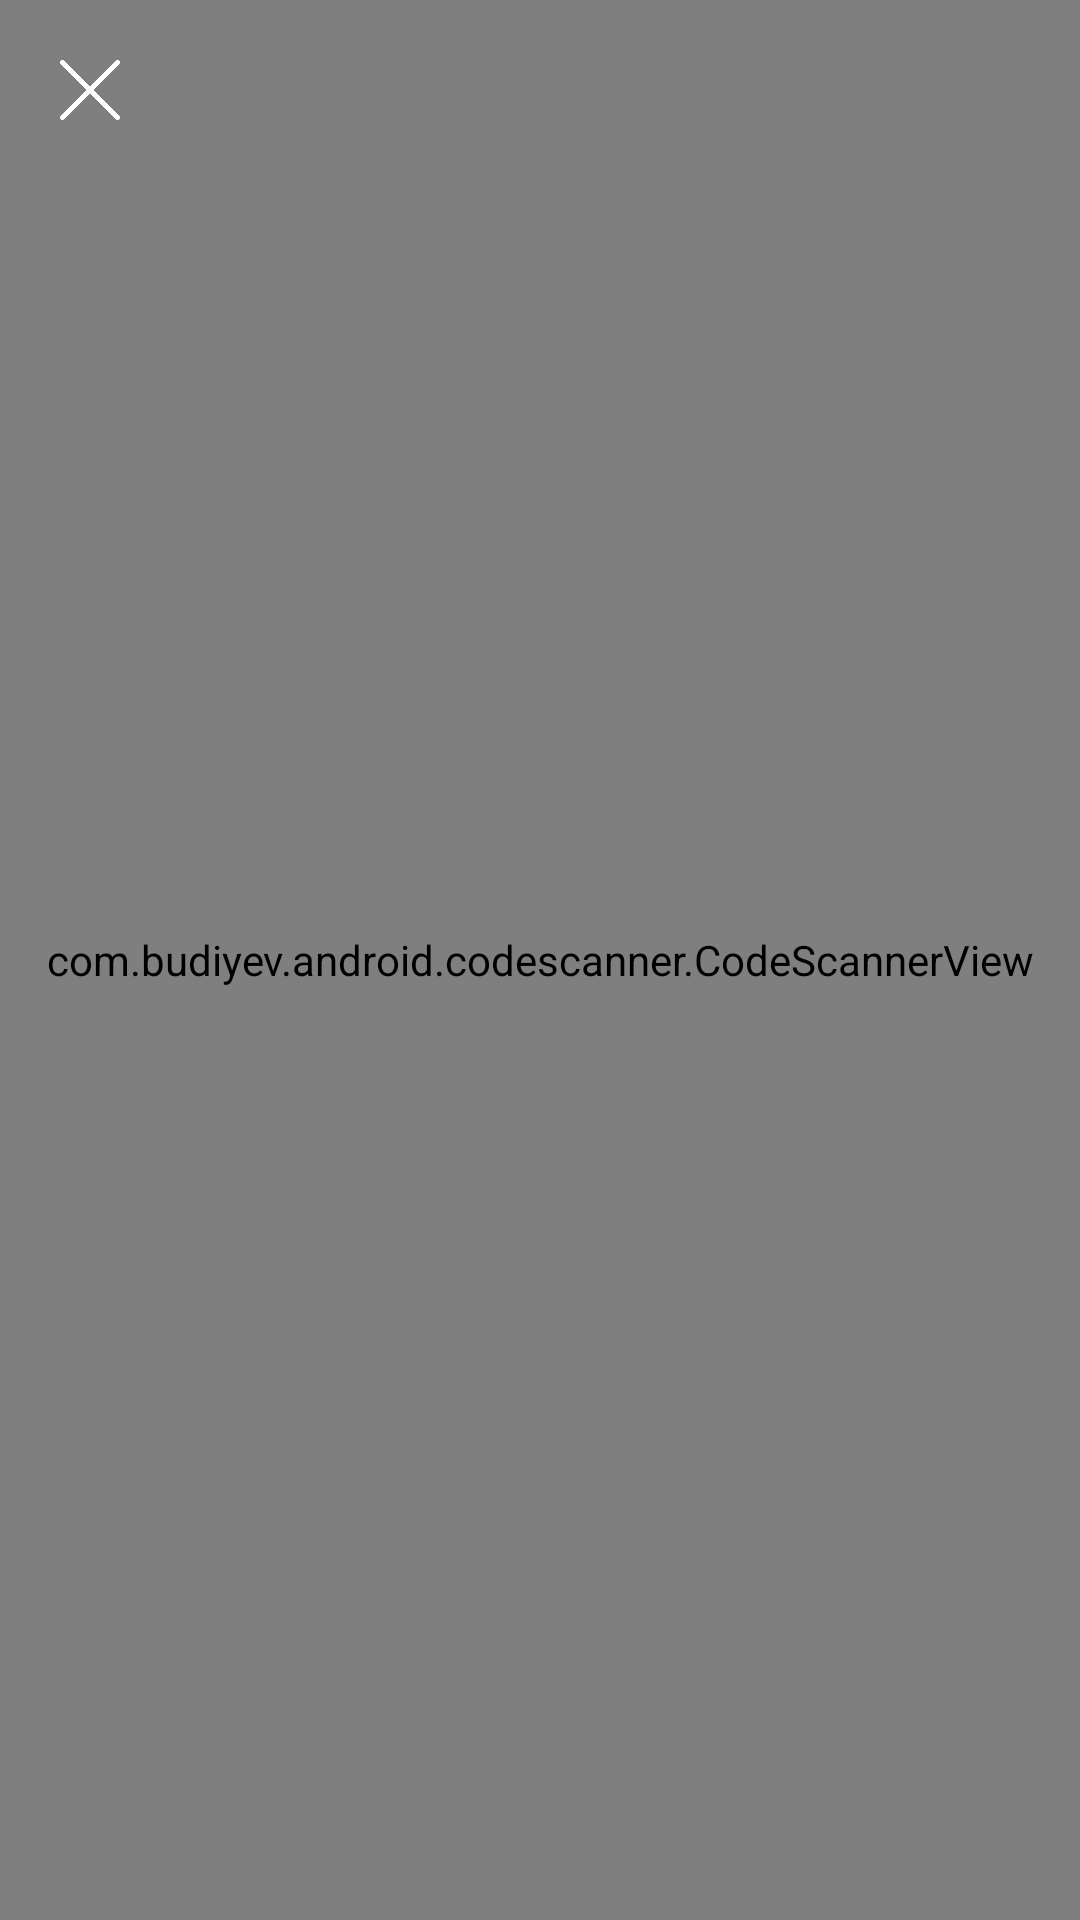

Locate icon controls on the screen. Image size 1080w x 1920h, boxes as (x1, y1, x2, y2).
cancel: (60, 60, 120, 120)
